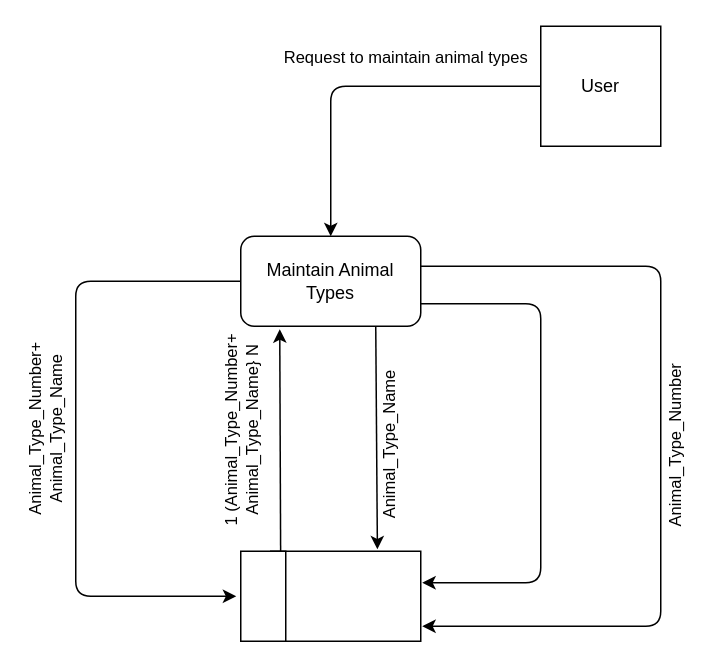
The diagram is 711 pixels wide and 668 high, and some of its shapes have lost their labels. The shapes that lost their labels are listed below. From the top down, each one's centre as x and y in pixels, then its label:
(262,595): D4
(345,595): Animal Types
